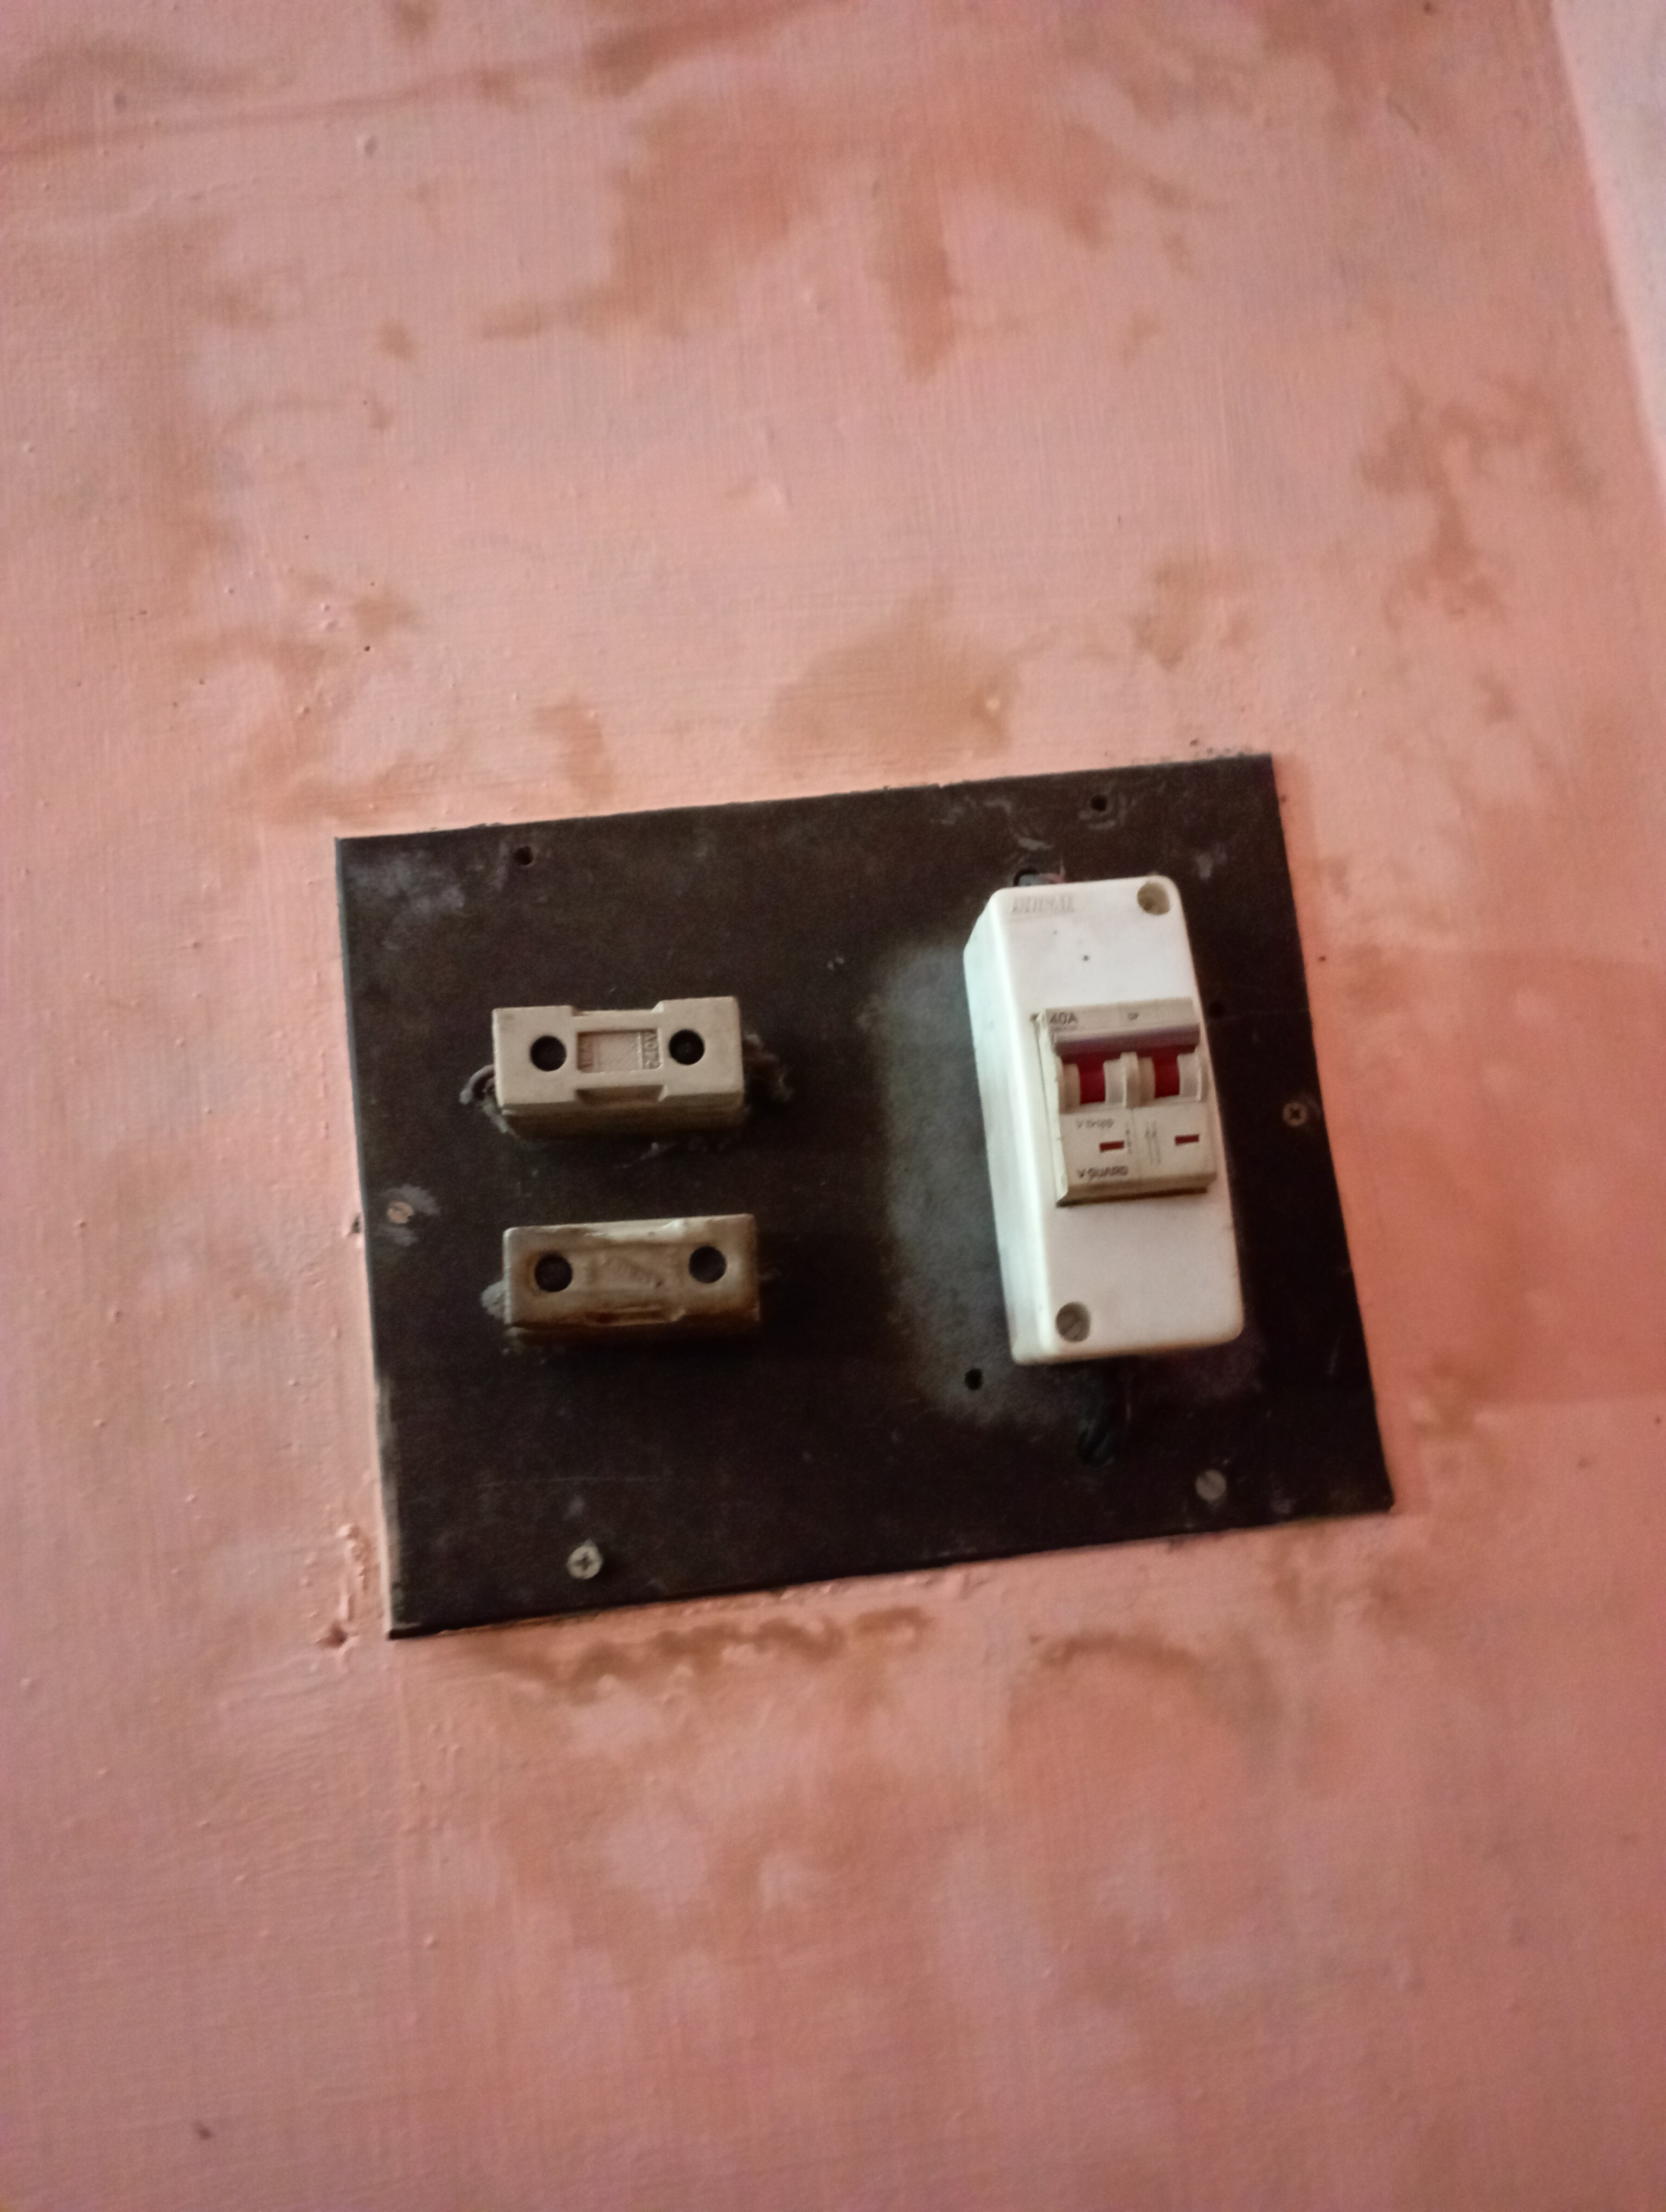ciruit_breaker: (943, 881, 1269, 1357)
fuse: (450, 983, 784, 1159), (472, 1207, 766, 1348)
